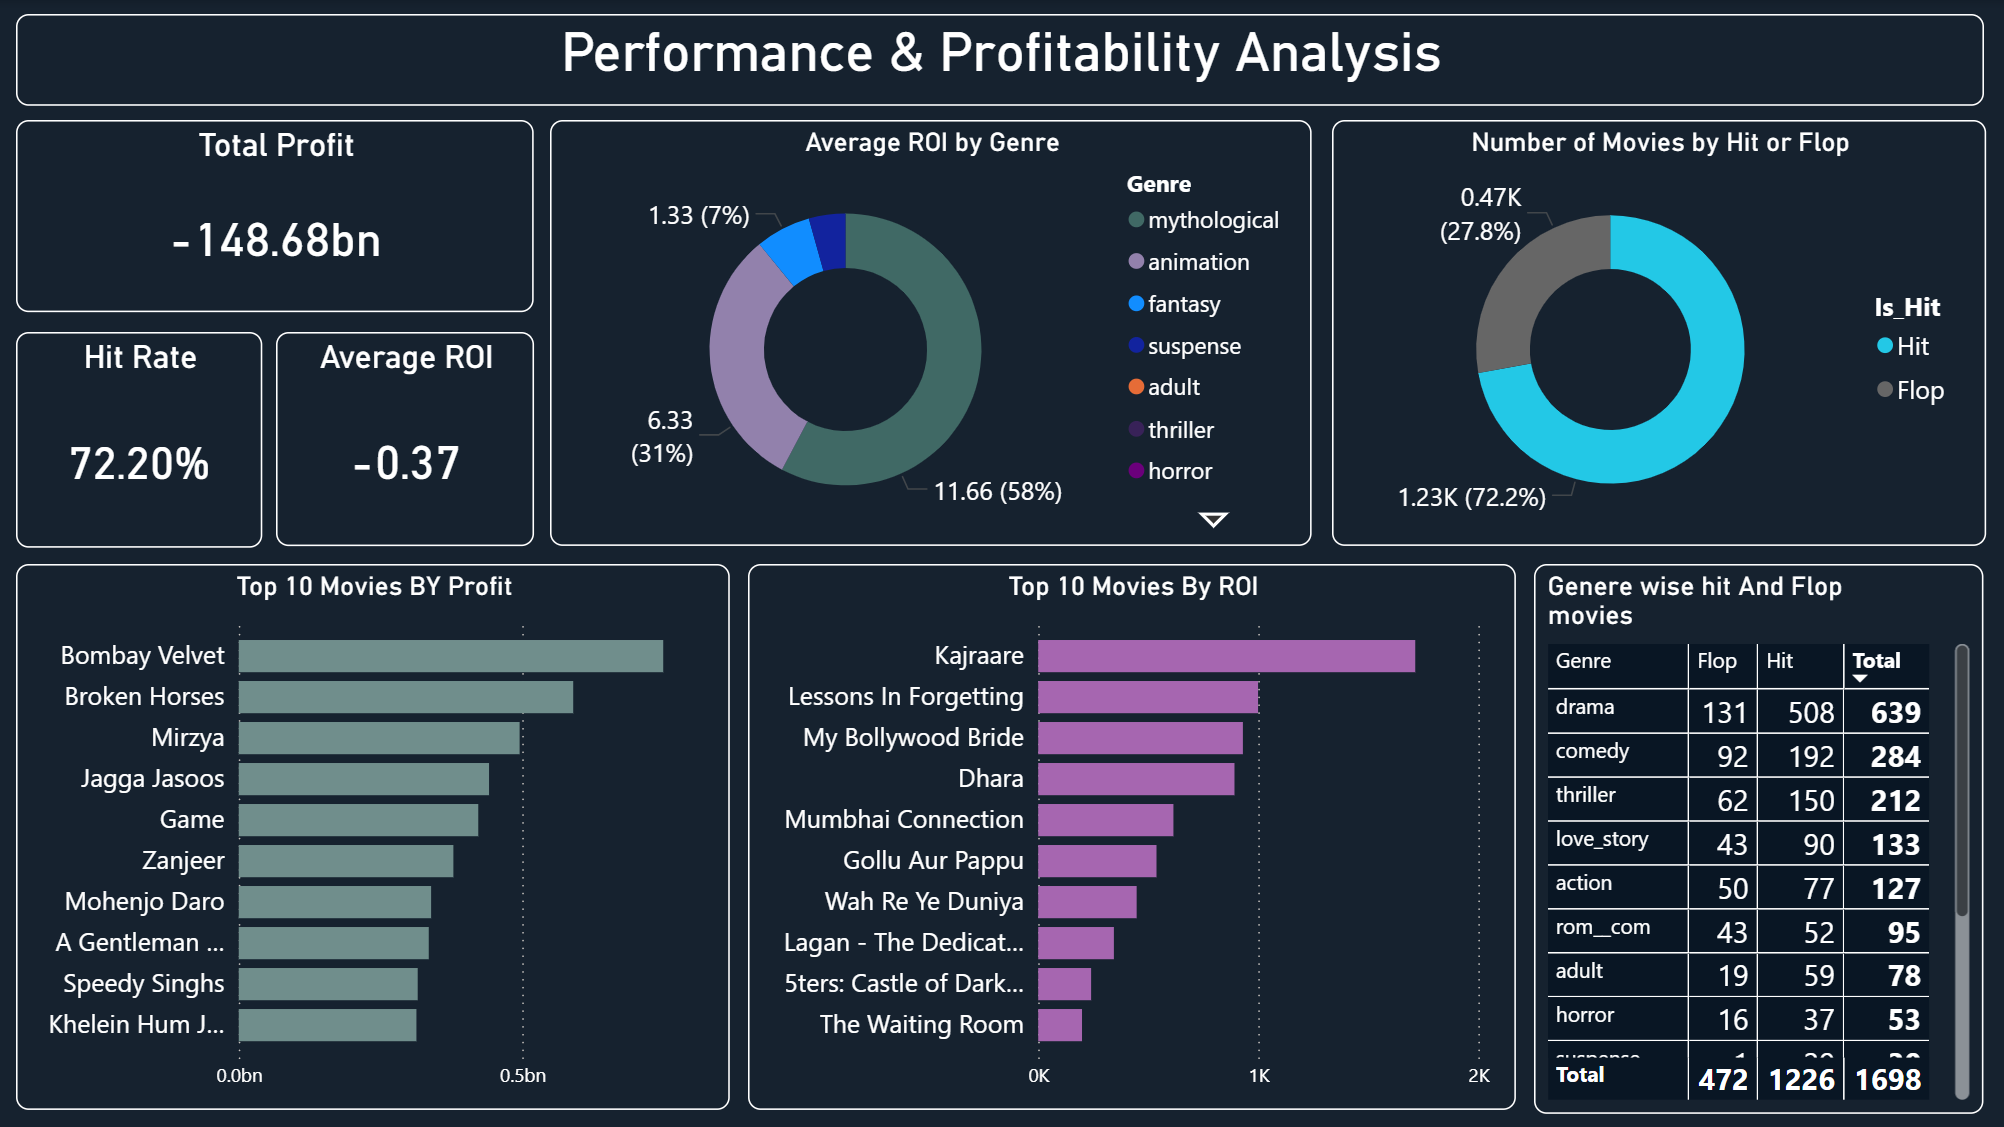

The dashboard page shown, as its layout file describes it:
{"tool":"powerbi","page":{"name":"Performance & Profitability Analysis","canvas":[1280,720],"ordinal":1},"visuals":[{"type":"card","title":"Total Profit ","fields":{"Values":["Data for repository.Total_Profit"]},"box":[10.2,76.5,330.2,122.4],"z":0},{"type":"card","title":"Average ROI","fields":{"Values":["Data for repository.Average_ROI"]},"box":[175.9,211.6,164.5,136.4],"z":1000},{"type":"card","title":"Hit Rate ","fields":{"Values":["Data for repository.HitRate (%)"]},"box":[10.2,211.6,156.8,137.7],"z":2000},{"type":"donutChart","title":"Number of Movies by Hit or Flop","fields":{"Category":["Data for repository.Is_Hit"],"Y":["CountNonNull(Data for repository.Movie_Name)"]},"box":[849.1,76.5,416.9,271.6],"z":3000},{"type":"barChart","title":"Top 10 Movies BY Profit","fields":{"Category":["Data for repository.Movie_Name"],"Y":["Data for repository.Total_Profit"]},"box":[10.2,359.5,455.1,348],"z":4000},{"type":"barChart","title":"Top 10 Movies By ROI","fields":{"Category":["Data for repository.Movie_Name"],"Y":["Data for repository.Average_ROI"]},"box":[476.8,359.5,489.6,348],"z":5000},{"type":"donutChart","title":"Average ROI by Genre","fields":{"Category":["Data for repository.Genre"],"Y":["Data for repository.Average_ROI"]},"box":[350.6,76.5,485.7,271.6],"z":6000},{"type":"pivotTable","title":"Genere wise hit And Flop movies","fields":{"Rows":["Data for repository.Genre"],"Values":["CountNonNull(Data for repository.Is_Hit)"],"Columns":["Data for repository.Is_Hit"]},"box":[978.4,359.8,286.3,350.6],"z":7000},{"type":"textbox","title":" Performance & Profitability Analysis","box":[10.2,8.9,1254.5,58.6],"z":8000}]}

Visuals, with their boxes in screenshot pixels (x1, y1, x2, y2), scaled from the page's 1280x720 canvas onto the 2004x1127 screenshot:
"Total Profit " card: 16 120 533 311
"Average ROI" card: 275 331 533 545
"Hit Rate " card: 16 331 261 547
"Number of Movies by Hit or Flop" donutChart: 1329 120 1982 545
"Top 10 Movies BY Profit" barChart: 16 563 728 1107
"Top 10 Movies By ROI" barChart: 746 563 1513 1107
"Average ROI by Genre" donutChart: 549 120 1309 545
"Genere wise hit And Flop movies" pivotTable: 1532 563 1980 1112
" Performance & Profitability Analysis" textbox: 16 14 1980 106
